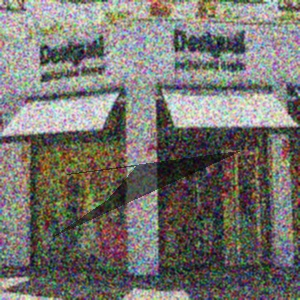desigual: (130, 13, 300, 39), (93, 16, 125, 50)
